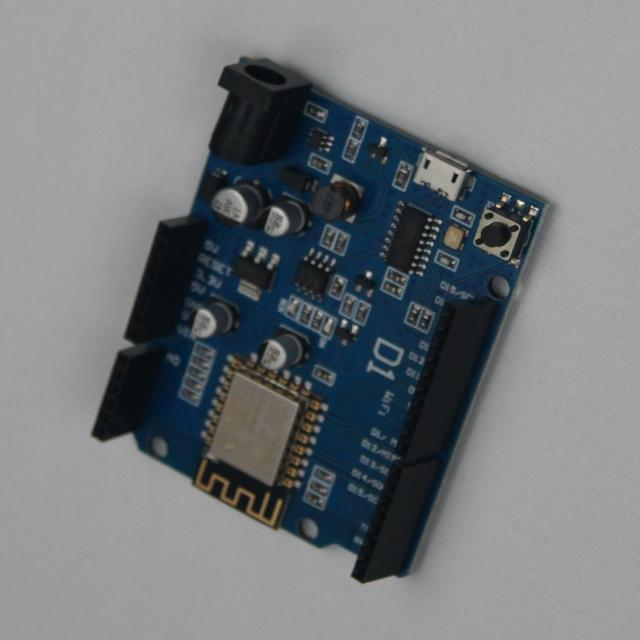Arduino Uno WiFi Shield: (93, 59, 548, 583)
